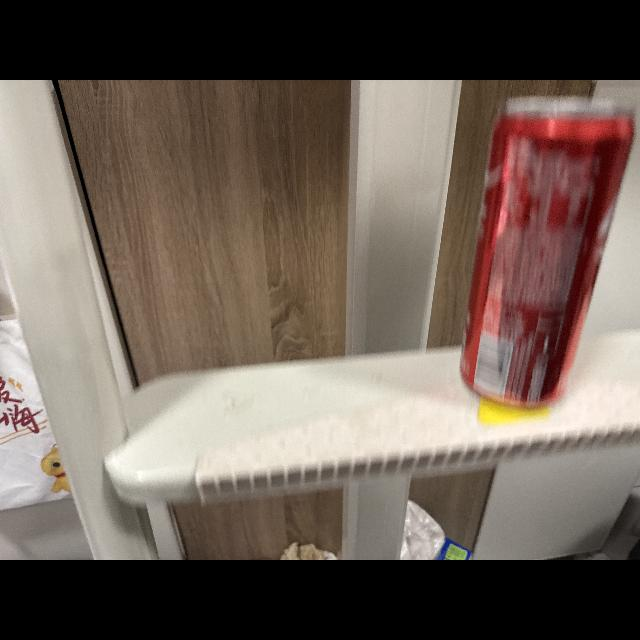Cola: (451, 86, 635, 412)
